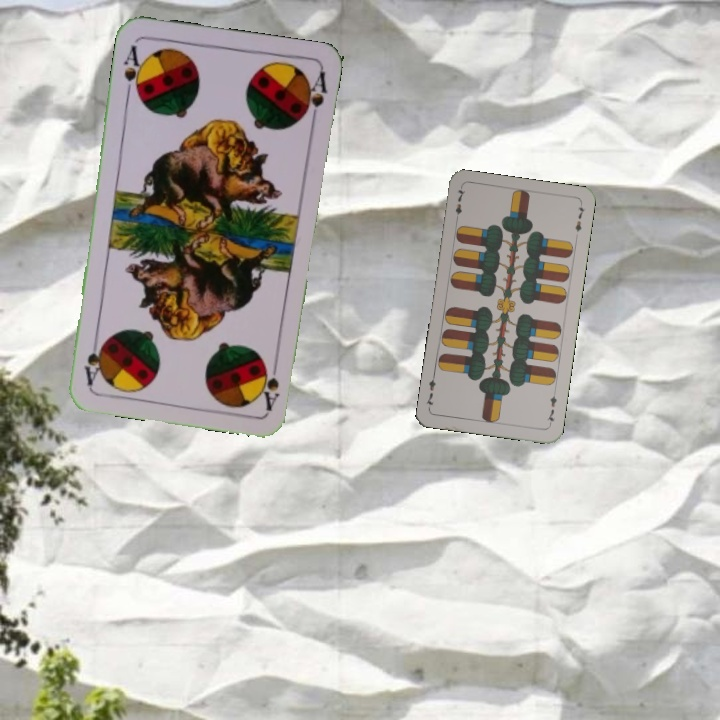E7: (451, 184, 468, 224), (543, 391, 560, 428)
SA: (120, 41, 147, 100), (257, 353, 282, 413)
